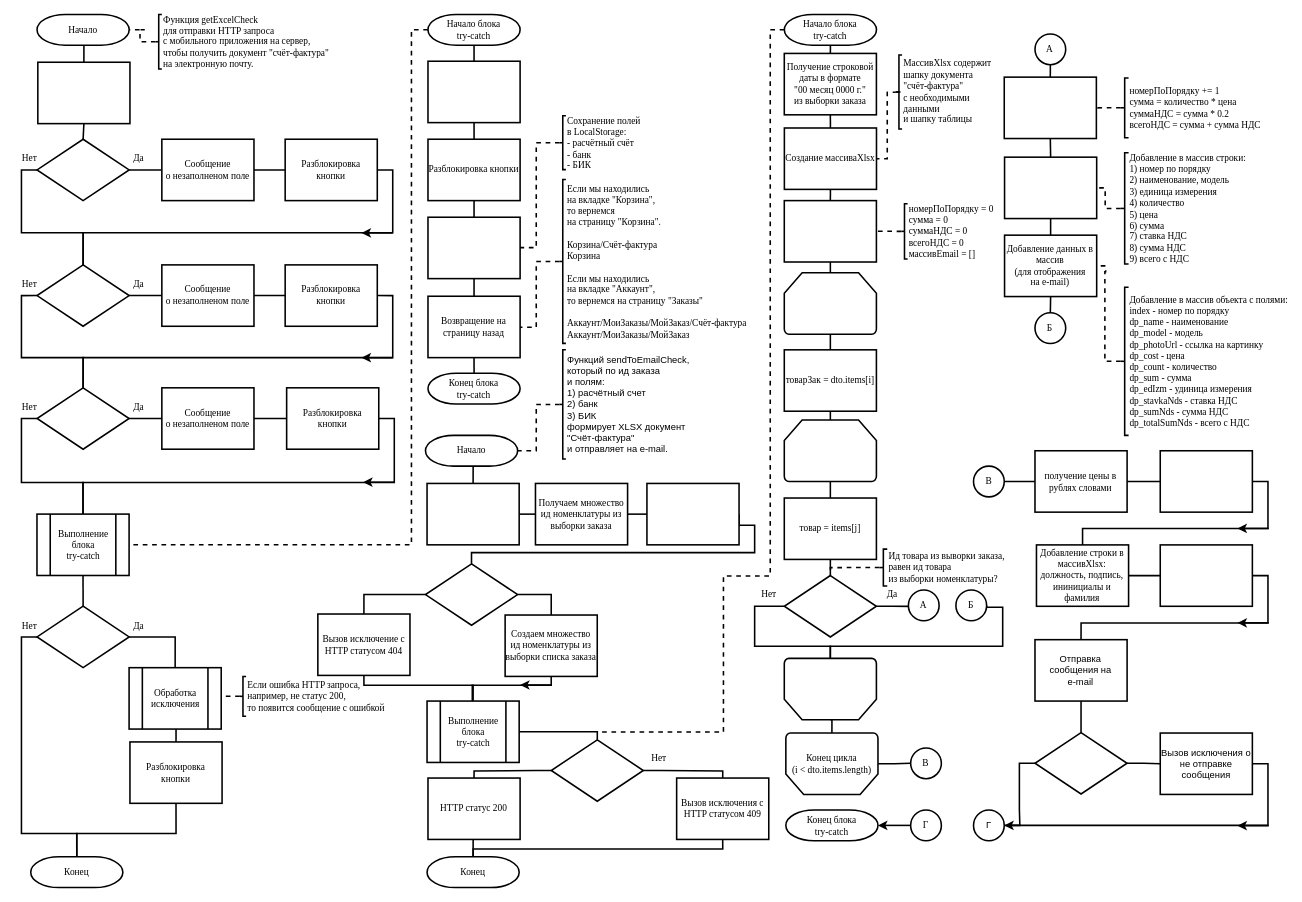
Some shapes in this 1302 by 902 pixel diagram are drawn without their labels. The centre of each missing label's shape, as x and y in pixels:
i = 0 i < dto.items.length: (x=830, y=303)
j = 0 j < items.length: (x=830, y=450)
try-catch выполнен: (x=83, y=636)
Банк не указан: (x=83, y=295)
БИК не указан: (x=83, y=418)
Блок try-catch выполнен?: (x=597, y=770)
Блокировка кнопки: (x=83, y=92)
Добавление в массивXlsx суммы НДС и всего к оплате с НДС в рублях словами: (x=1206, y=481)
Добавление данных в массивXlsx: (x=1050, y=187)
Добавление стилей для документа XLSX: (x=1206, y=575)
Заказ найден?: (x=471, y=594)
Конец цикла (i < items.length): (x=830, y=688)
Отправка HTTP запроса на сервер на отправку документа "счёт-факута": (x=473, y=91)
Получаем выборку номенклатуры: (x=692, y=513)
Получение выборки заказа: (x=473, y=513)
Расчеты: (x=1050, y=107)
Расчётный счёт не указан: (x=83, y=169)
Создание счётчиков и массива: (x=830, y=230)
Сообщение отправлено: (x=1080, y=762)
Сохранение полей в LocaStorage: (x=473, y=247)
товар.ид === товарЗак.ид: (x=830, y=605)
